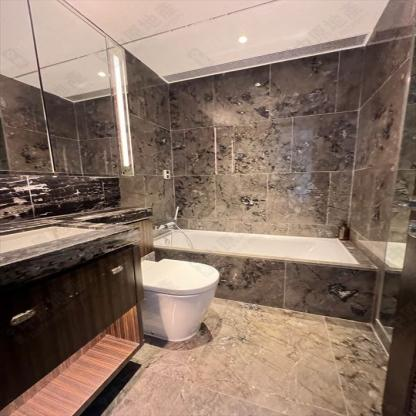Bathtub: (150, 227, 358, 320)
Toilet: (142, 257, 221, 344)
Toilet Sink: (0, 225, 97, 254)
